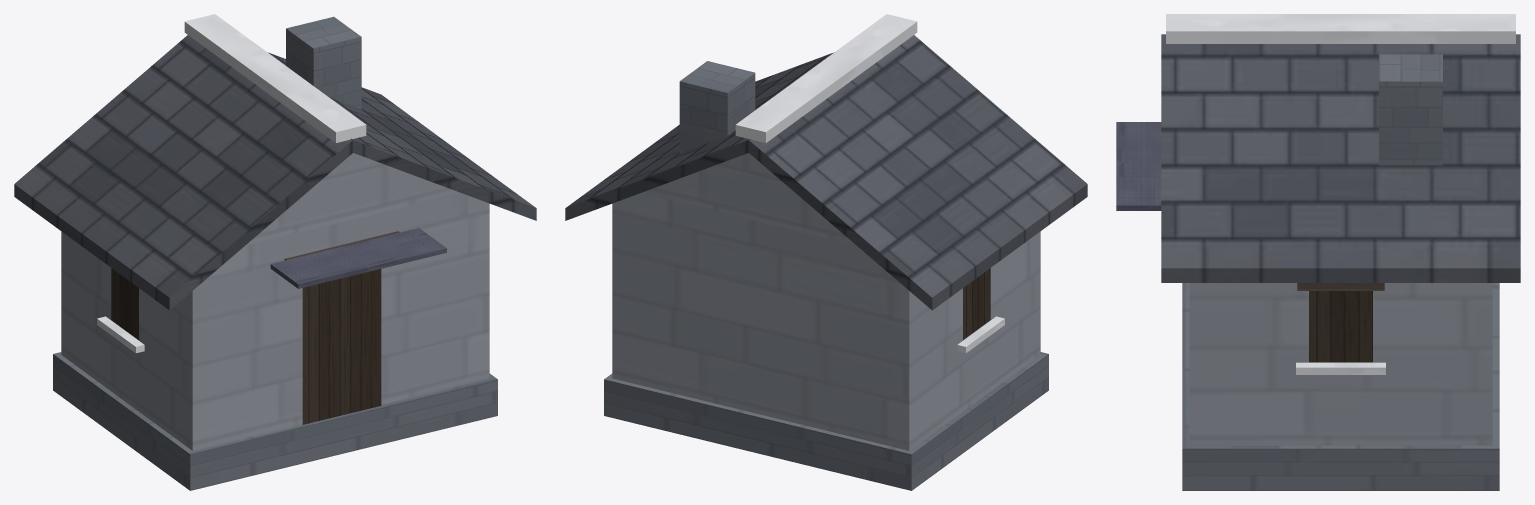
The model's file is ae_snow_stone_small_booth_lod1.glb.
3 renders of one model, left to right at view 1: azimuth 30°, elevation 25°; view 2: azimuth 150°, elevation 25°; view 3: azimuth 270°, elevation 25°, orthographic. The views are drawn at different scales.
Parts seen in each view (by area): view 1: ae_snow_stone_small_booth_lod1; view 2: ae_snow_stone_small_booth_lod1; view 3: ae_snow_stone_small_booth_lod1.
Boxes of the visible parts, x1,y1,x2,y2 form: ae_snow_stone_small_booth_lod1: (14, 14, 536, 490); ae_snow_stone_small_booth_lod1: (565, 14, 1087, 490); ae_snow_stone_small_booth_lod1: (1116, 14, 1520, 490).
Bounding box in the file's own units: 4.2 × 3.61 × 3.47.
Materials: 1 (1 with a texture image).
